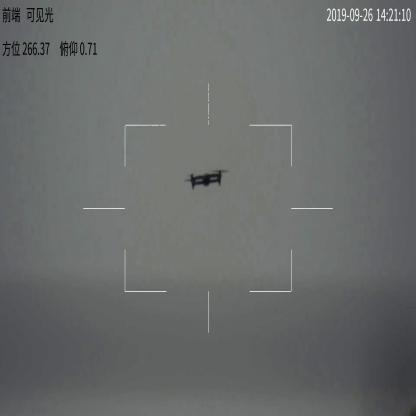uav: (179, 165, 231, 190)
